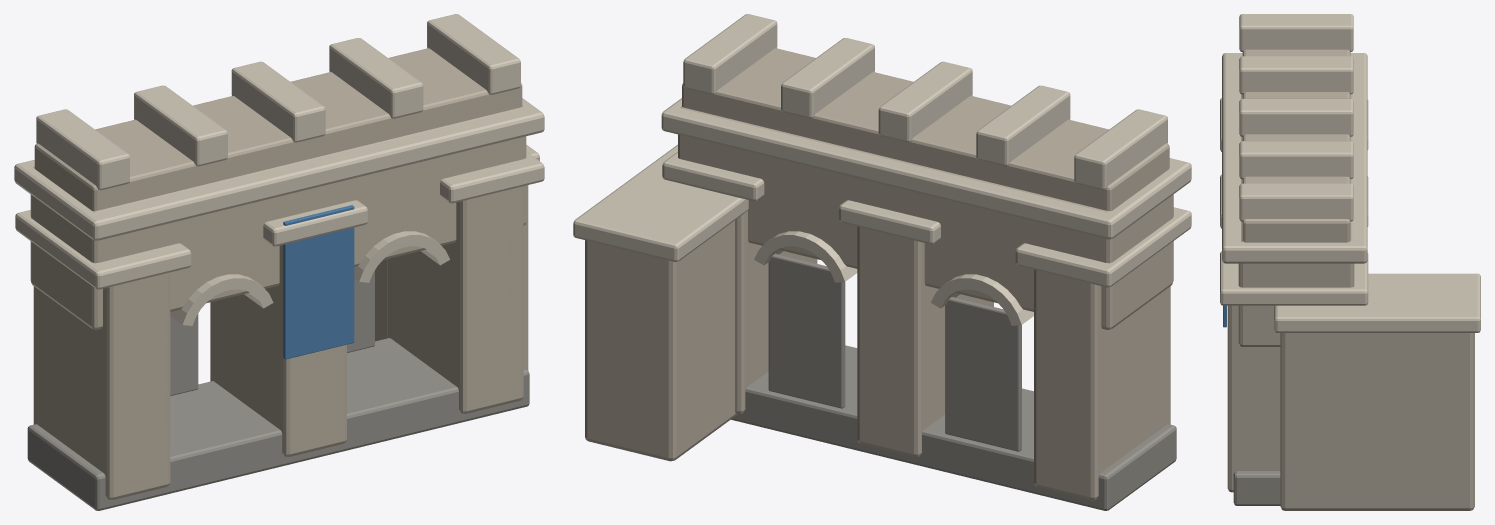
File: CuartelTerraceSupport.glb
3 views of the same model, side by side, from view 1: azimuth 30°, elevation 25°; view 2: azimuth 150°, elevation 25°; view 3: azimuth 270°, elevation 25° (orthographic). The views are drawn at different scales.
Parts seen in each view (by area): view 1: Cuartel Terrace Support upper spandrel, Cuartel Terrace Support buttress 0, Cuartel Terrace Support foundation, Cuartel Terrace Support parapet, Cuartel Terrace Support buttress 2, Cuartel Terrace Support cornice, Cuartel Terrace Support buttress 1, Cuartel Terrace Support civic banner, Cuartel Terrace Support buttress cap 0, Cuartel Terrace Support parapet merlon 2, Cuartel Terrace Support parapet merlon 3, Cuartel Terrace Support parapet merlon 1 (+7 smaller); view 2: Cuartel side return, Cuartel Terrace Support upper spandrel, Cuartel Terrace Support buttress 0, Cuartel Terrace Support parapet, Cuartel Terrace Support buttress 1, Cuartel Terrace Support foundation, Cuartel Terrace Support cornice, Cuartel Terrace Support recessed shadow 1, Cuartel Terrace Support recessed shadow 0, Cuartel side cornice, Cuartel Terrace Support buttress 2, Cuartel Terrace Support parapet merlon 1 (+7 smaller); view 3: Cuartel side return, Cuartel Terrace Support cornice, Cuartel side cornice, Cuartel Terrace Support buttress 2, Cuartel Terrace Support parapet, Cuartel Terrace Support upper spandrel, Cuartel Terrace Support parapet merlon 2, Cuartel Terrace Support parapet merlon 4, Cuartel Terrace Support parapet merlon 1, Cuartel Terrace Support parapet merlon 3, Cuartel Terrace Support parapet merlon 0, Cuartel Terrace Support buttress cap 2 (+1 smaller).
Boxes of the visible parts, x1,y1,x2,y2 form: Cuartel Terrace Support upper spandrel: (30, 106, 526, 329); Cuartel Terrace Support buttress 0: (33, 272, 170, 500); Cuartel Terrace Support foundation: (27, 338, 529, 510); Cuartel Terrace Support parapet: (34, 48, 522, 211); Cuartel Terrace Support buttress 2: (387, 186, 523, 413); Cuartel Terrace Support cornice: (14, 98, 544, 240); Cuartel Terrace Support buttress 1: (210, 245, 346, 456); Cuartel Terrace Support civic banner: (283, 205, 354, 359); Cuartel Terrace Support buttress cap 0: (15, 210, 191, 289); Cuartel Terrace Support parapet merlon 2: (231, 61, 325, 142); Cuartel Terrace Support parapet merlon 3: (329, 38, 423, 118); Cuartel Terrace Support parapet merlon 1: (134, 85, 227, 166); Cuartel side return: (585, 220, 737, 461); Cuartel Terrace Support upper spandrel: (678, 106, 1173, 329); Cuartel Terrace Support buttress 0: (1034, 269, 1170, 500); Cuartel Terrace Support parapet: (682, 48, 1169, 211); Cuartel Terrace Support buttress 1: (857, 226, 993, 456); Cuartel Terrace Support foundation: (731, 345, 1176, 510); Cuartel Terrace Support cornice: (661, 98, 1191, 239); Cuartel Terrace Support recessed shadow 1: (768, 253, 845, 408); Cuartel Terrace Support recessed shadow 0: (945, 297, 1021, 451); Cuartel side cornice: (573, 144, 748, 261); Cuartel Terrace Support buttress 2: (735, 210, 817, 413); Cuartel Terrace Support parapet merlon 1: (976, 85, 1070, 166); Cuartel side return: (1280, 333, 1474, 510); Cuartel Terrace Support cornice: (1222, 53, 1367, 263); Cuartel side cornice: (1274, 273, 1480, 332); Cuartel Terrace Support buttress 2: (1227, 305, 1280, 492); Cuartel Terrace Support parapet: (1242, 49, 1350, 242); Cuartel Terrace Support upper spandrel: (1238, 94, 1354, 346); Cuartel Terrace Support parapet merlon 2: (1239, 98, 1353, 136); Cuartel Terrace Support parapet merlon 4: (1239, 183, 1353, 221); Cuartel Terrace Support parapet merlon 1: (1239, 56, 1353, 94); Cuartel Terrace Support parapet merlon 3: (1239, 141, 1353, 179); Cuartel Terrace Support parapet merlon 0: (1239, 14, 1353, 51); Cuartel Terrace Support buttress cap 2: (1220, 251, 1368, 305).
Bounding box in the file's own units: 6.03 × 4.2 × 3.22.
